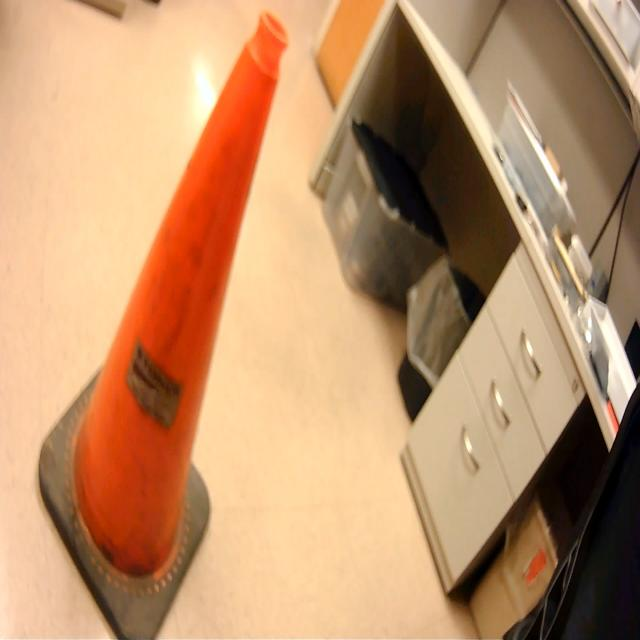traffic cone: (35, 3, 294, 640)
